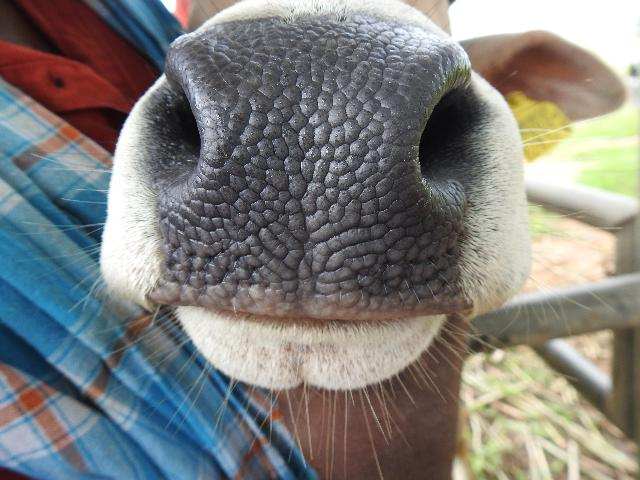Muzzle: (196, 30, 418, 302)
